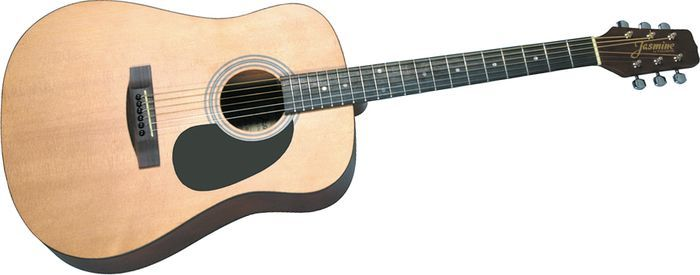guitar: (1, 6, 699, 274)
